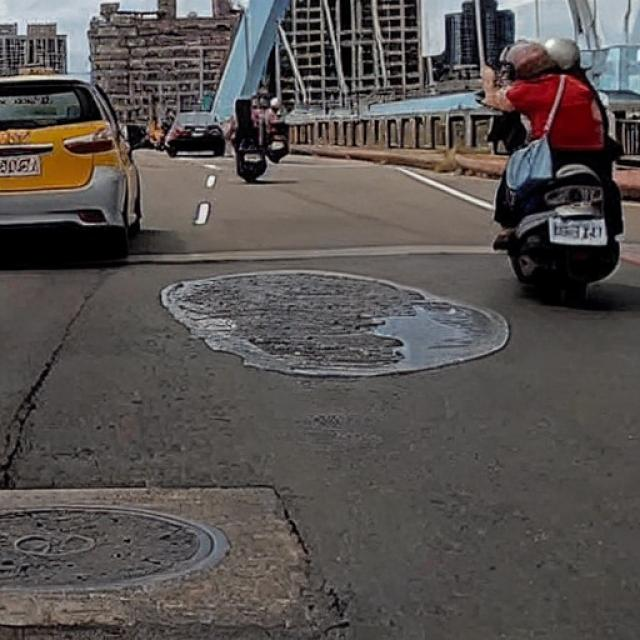puddle: (181, 271, 514, 380)
